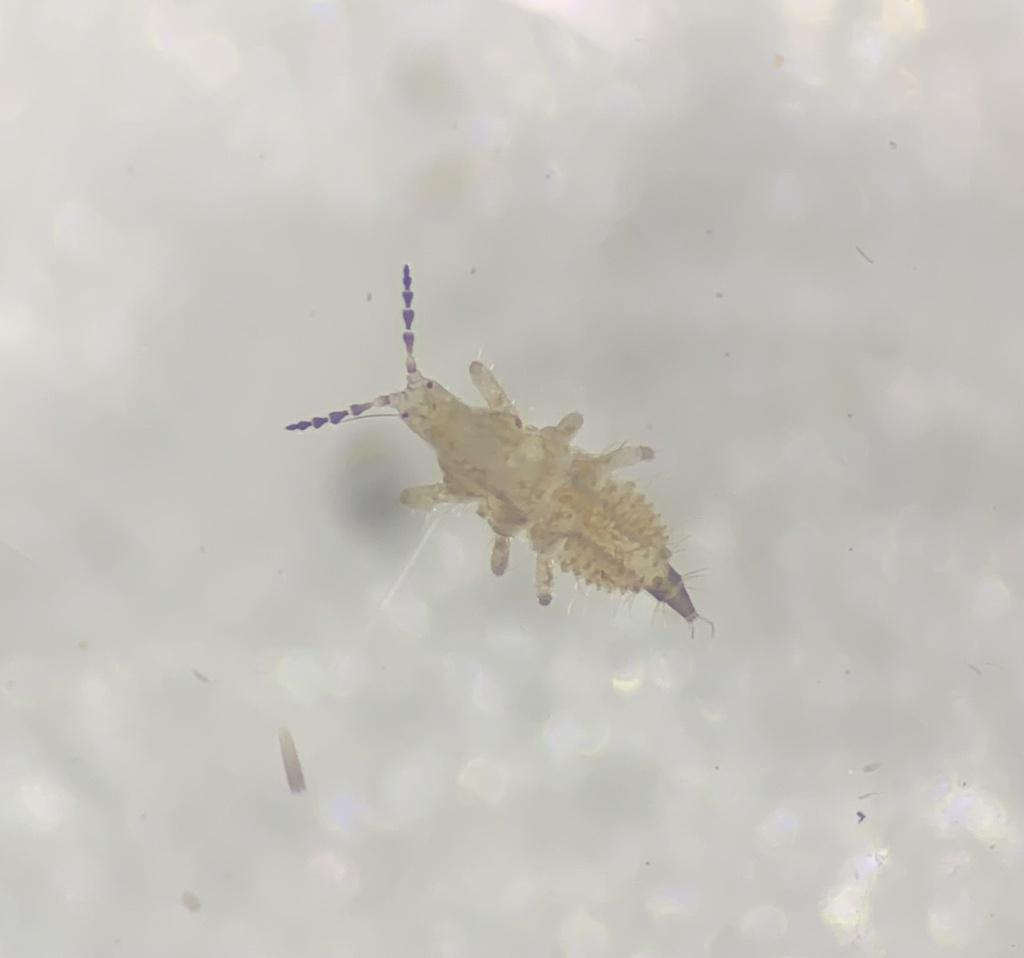tiny_pests: (231, 221, 847, 717)
